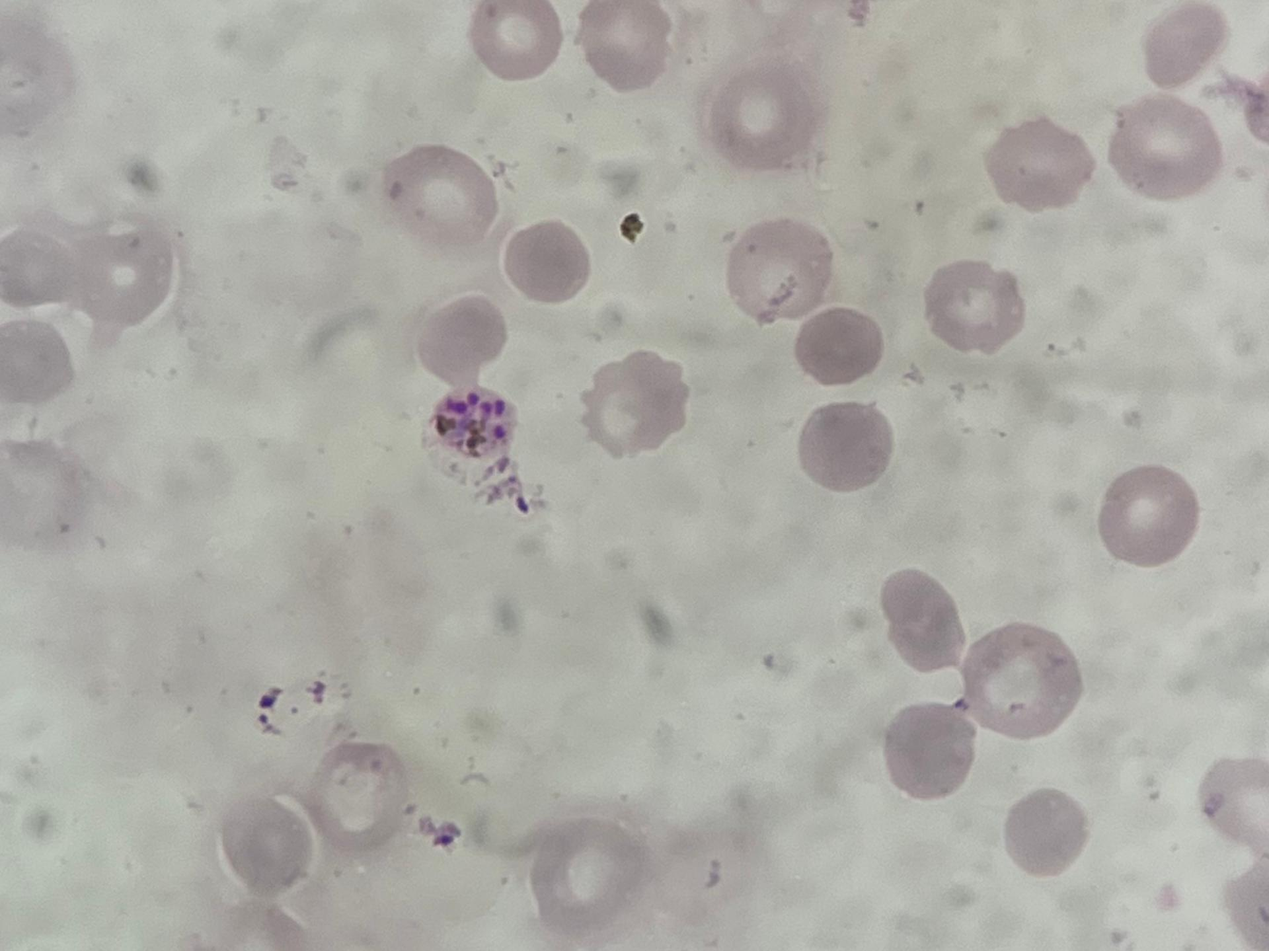Infected: (427, 385, 516, 465)
Uninfected: (523, 817, 647, 937), (960, 623, 1083, 738), (67, 216, 178, 333), (1107, 95, 1222, 200), (381, 144, 498, 247), (214, 791, 320, 901), (724, 218, 835, 323), (578, 354, 689, 458), (308, 740, 409, 852), (983, 113, 1096, 212), (1095, 465, 1201, 566), (709, 68, 812, 167), (923, 258, 1025, 354), (878, 567, 969, 674), (883, 703, 979, 798), (577, 0, 674, 90), (798, 400, 893, 491), (415, 291, 508, 383), (500, 217, 591, 304), (469, 0, 563, 82), (1003, 787, 1090, 875), (792, 305, 884, 387), (1141, 1, 1227, 86), (0, 224, 83, 312), (1196, 757, 1269, 852), (1, 319, 75, 405)
